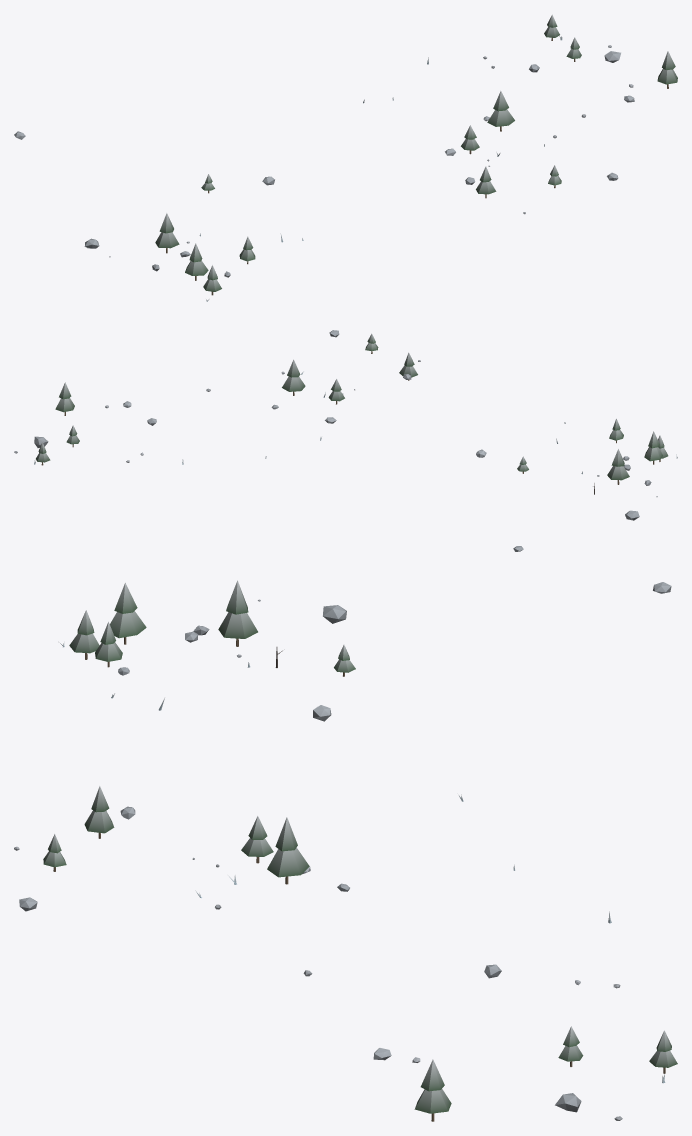
File: frost_land_scatter_c21_10_lod1.glb
3 renders of one model, top to bottom at view 1: azimuth 30°, elevation 25°; view 2: azimuth 150°, elevation 25°; view 3: azimuth 270°, elevation 25°, orthographic. The views are drawn at different scales.
Parts seen in each view (by area): view 1: frost_land_scatter_c21_10_lod1; view 2: frost_land_scatter_c21_10_lod1; view 3: frost_land_scatter_c21_10_lod1.
Boxes of the visible parts, x1,y1,x2,y2 form: frost_land_scatter_c21_10_lod1: (14,14,677,301); frost_land_scatter_c21_10_lod1: (14,330,677,551); frost_land_scatter_c21_10_lod1: (14,580,677,1121).
Size of the model in its own units: 249 by 31.94 by 140.
